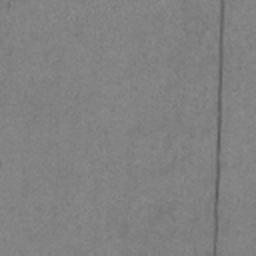Scratches: (207, 0, 225, 256)
